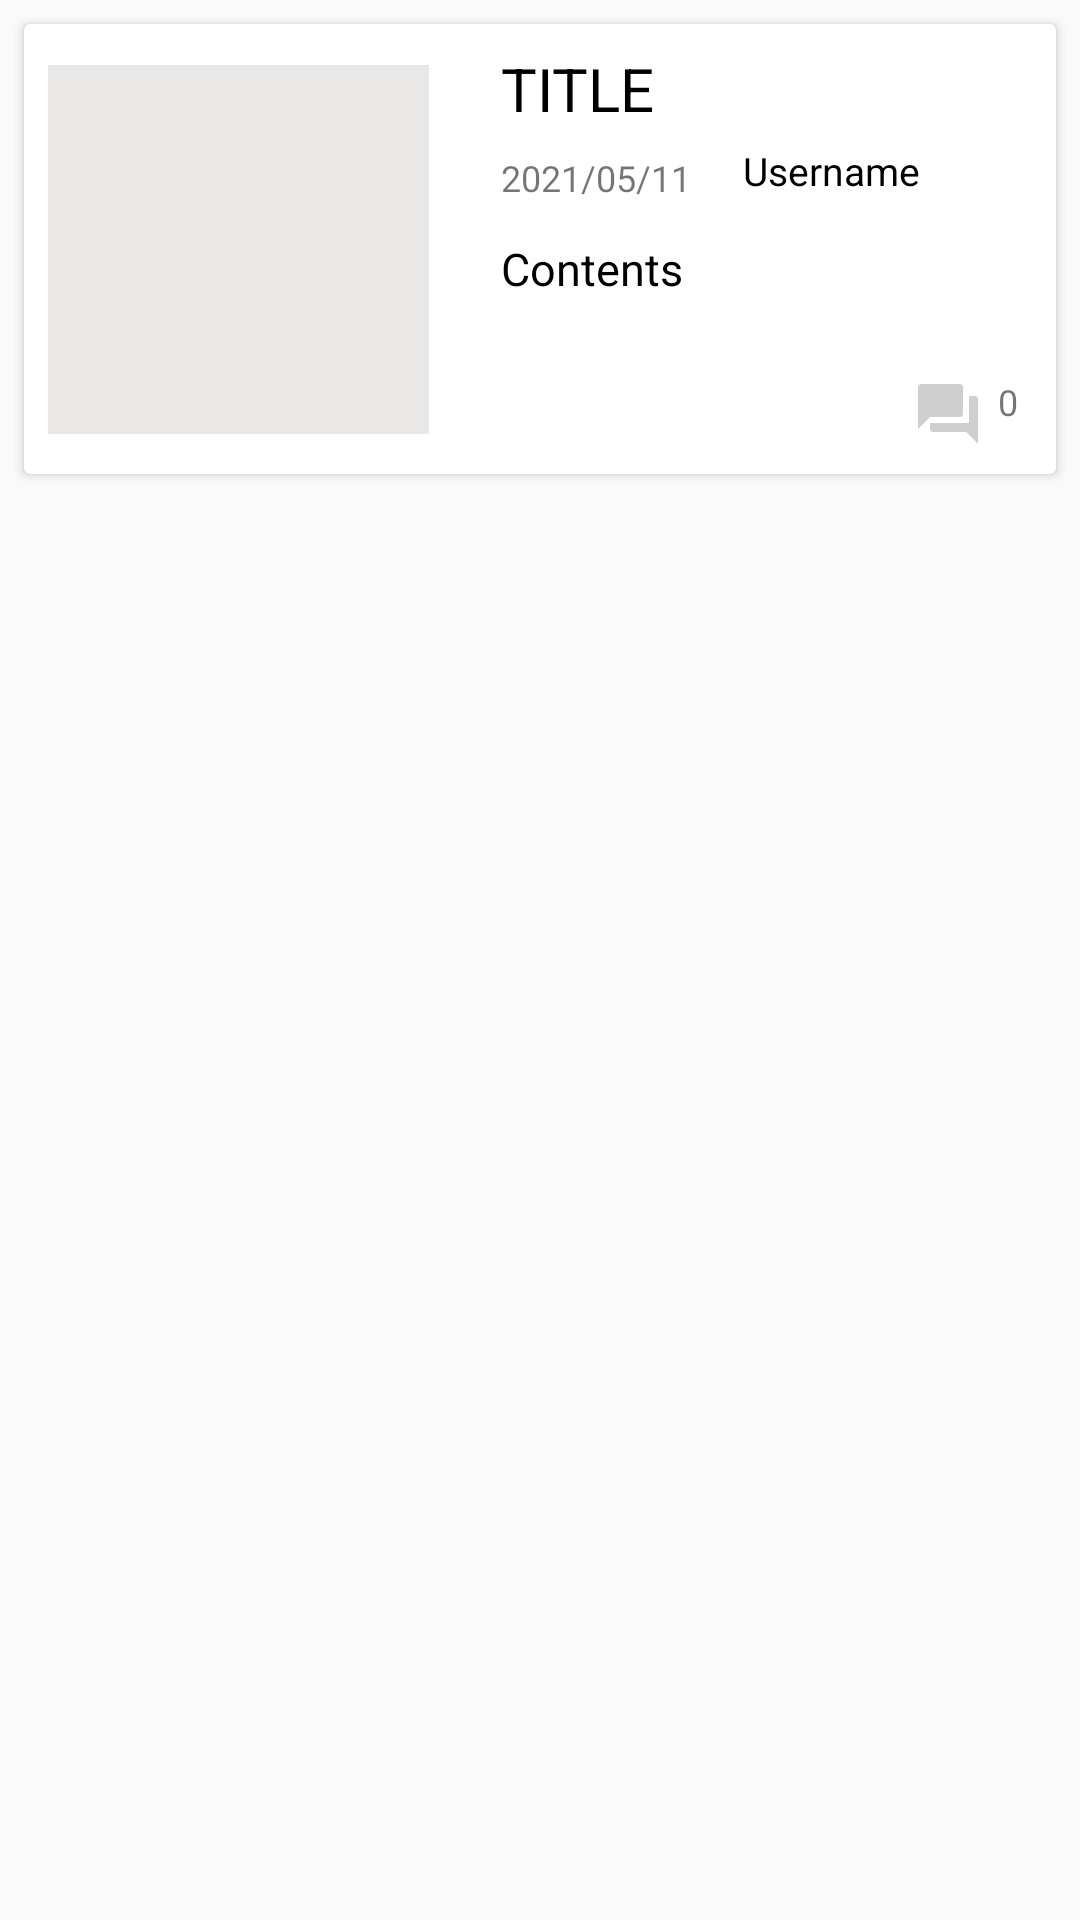

Screen size 1080 x 1920. Icon name, then its center in pixels as point (x, y):
comments: point (948, 413)
